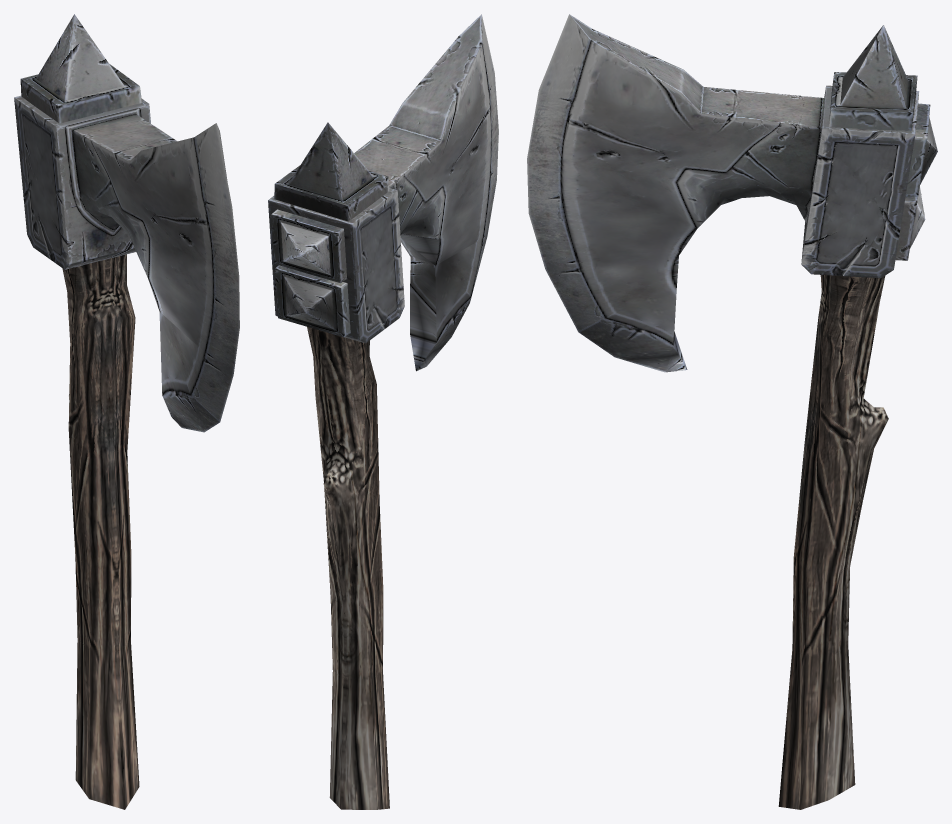
The model's file is Axe.FBX.
The picture shows the model from 3 angles, left to right: view 1: azimuth 30°, elevation 25°; view 2: azimuth 150°, elevation 25°; view 3: azimuth 270°, elevation 25°; orthographic projection. The views are drawn at different scales.
Parts seen in each view (by area): view 1: AxeASCII; view 2: AxeASCII; view 3: AxeASCII.
Boxes of the visible parts, x1,y1,x2,y2 form: AxeASCII: (14,14,239,809); AxeASCII: (268,14,498,809); AxeASCII: (527,14,937,809).
Size of what is drawn, in the model's own units: 15.25 by 54.57 by 115.
Materials: 1 (1 with a texture image).
